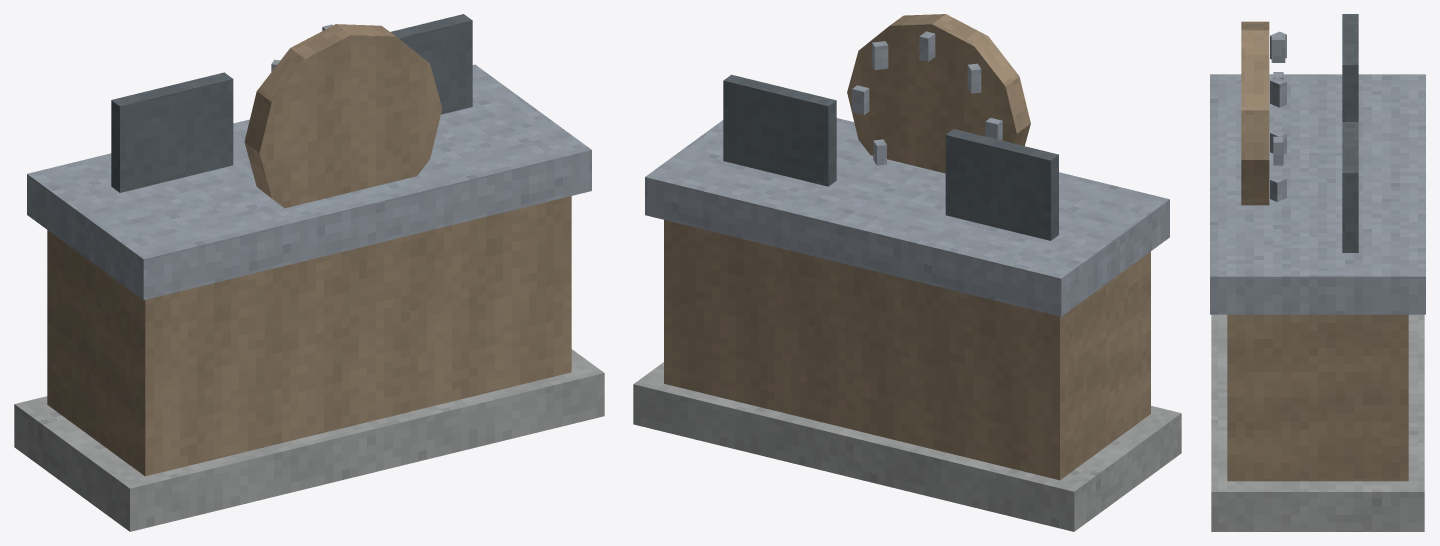
The model's file is level_blockout_ship_wheelhouse_console.glb.
3 renders of one model, left to right at view 1: azimuth 30°, elevation 25°; view 2: azimuth 150°, elevation 25°; view 3: azimuth 270°, elevation 25°, orthographic. The views are drawn at different scales.
Visible parts, largest first — view 1: level_blockout_ship_wheelhouse_console; view 2: level_blockout_ship_wheelhouse_console; view 3: level_blockout_ship_wheelhouse_console.
Boxes of the visible parts, x1,y1,x2,y2 form: level_blockout_ship_wheelhouse_console: (14, 14, 604, 531); level_blockout_ship_wheelhouse_console: (633, 14, 1181, 531); level_blockout_ship_wheelhouse_console: (1210, 14, 1425, 531).
Size of the model in its own units: 2.18 by 1.89 by 0.93.
4 materials, 4 textured.
